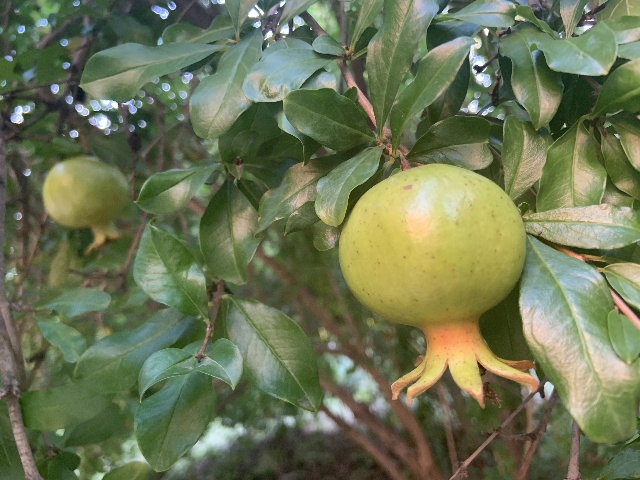mid-growth: (337, 163, 539, 408), (41, 155, 132, 253)
